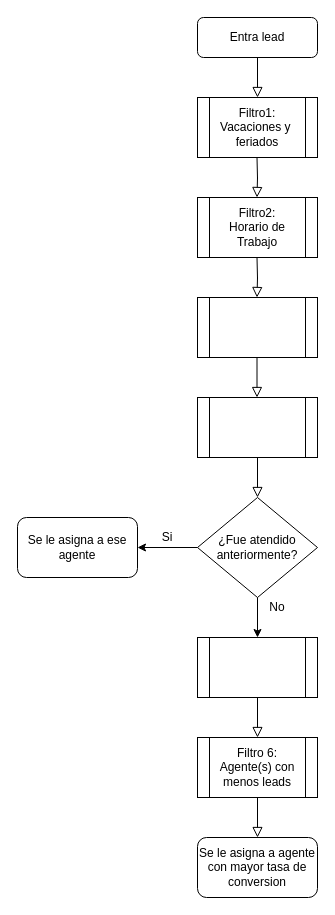
Some shapes in this 335 by 915 pixel diagram are drawn without their labels. The shapes that lost their labels are listed below. From the top down, each one's box as (x1, y1, x2, y2) in pixels, then its label:
(196, 296, 318, 358): Filtro 3: Preferencia mismo pais
(196, 396, 318, 458): Filtro 4: Area del agente
(196, 636, 318, 698): Filtro 5: Numero máximo de leads
